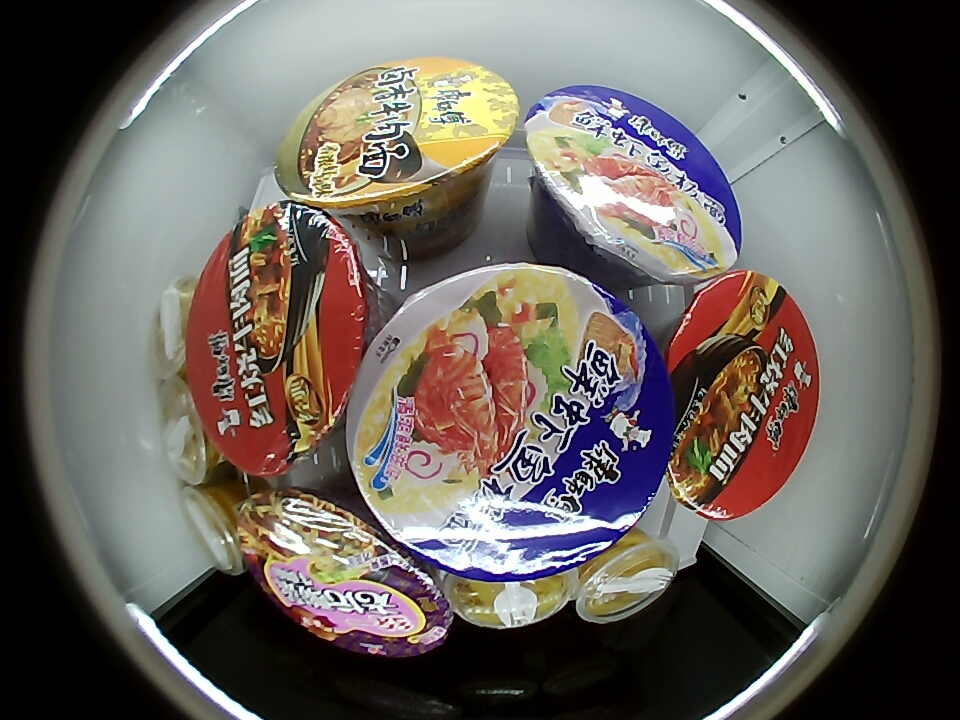hongshaoniurou: (185, 201, 375, 475), (662, 271, 818, 522)
laotansuancai: (234, 486, 454, 658)
luxiangniurou: (277, 58, 520, 212)
xianguolao: (573, 534, 677, 623), (442, 567, 574, 630), (158, 377, 218, 485), (181, 483, 247, 575), (151, 276, 193, 380)
xianxiayuban: (350, 264, 675, 581), (524, 84, 741, 284)
